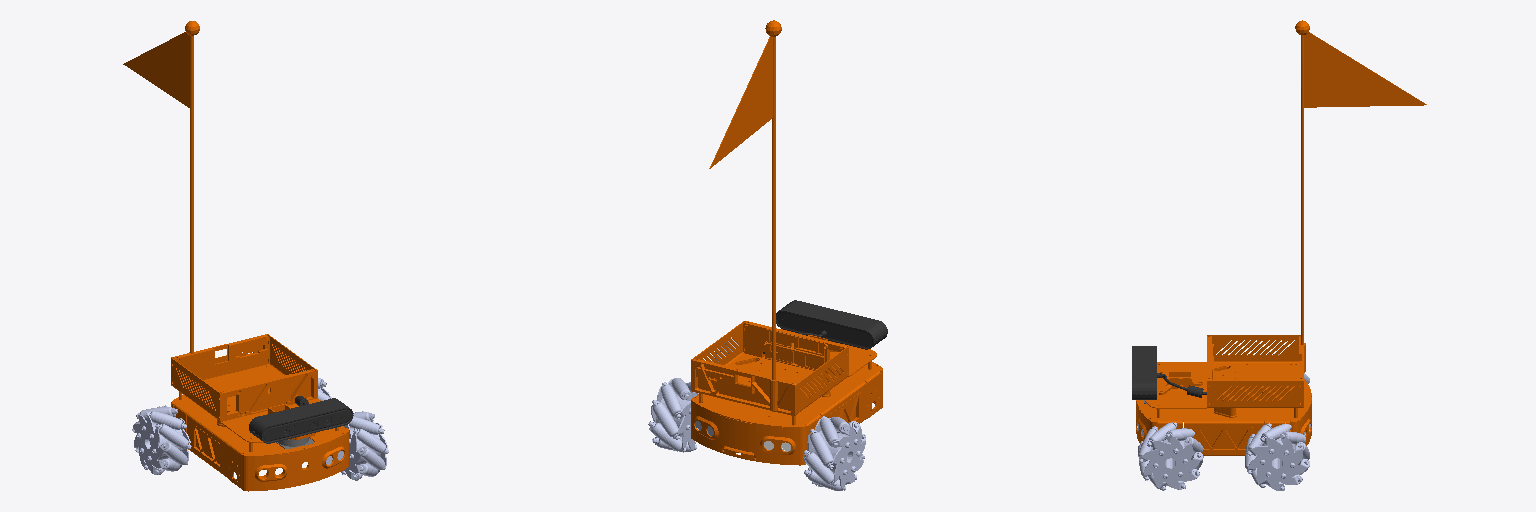
robot.urdf — mirte_master_description:
<?xml version="1.0" encoding="utf-8"?>
<!-- This URDF was automatically created by SolidWorks to URDF Exporter! Originally created by
[author] ([email redacted]) 
     Commit Version: 1.6.0-4-g7f85cfe  Build Version: 1.6.7995.38578
     For more information, please see http://wiki.ros.org/sw_urdf_exporter -->
<robot
  name="mirte_master_description">
  <link
    name="base_link">
    <inertial>
      <origin
        xyz="-0.00127942588707535 0.0151241102447173 -0.00985810717289011"
        rpy="0 0 0" />
      <mass
        value="1.67774926625852" />
      <inertia
        ixx="0.00906343835306296"
        ixy="8.45553301983081E-07"
        ixz="-3.93751691212787E-06"
        iyy="0.0137382930141301"
        iyz="0.000240421022548359"
        izz="0.0076615986898399" />
    </inertial>
    <visual>
      <origin
        xyz="0 0 0"
        rpy="0 0 0" />
      <geometry>
        <mesh
          filename="package://mirte_master_simulator/meshes/base_link.STL" />
      </geometry>
      <material
        name="">
        <color
          rgba="0.909803921568627 0.443137254901961 0.0313725490196078 1" />
      </material>
    </visual>
    <collision>
      <origin
        xyz="0 0 0"
        rpy="0 0 0" />
      <geometry>
        <mesh
          filename="package://mirte_master_simulator/meshes/base_link.STL" />
      </geometry>
    </collision>
  </link>
  <link
    name="front_left_wheel_link">
    <inertial>
      <origin
        xyz="0.030103 0.034202 0.03996"
        rpy="0 0 0" />
      <mass
        value="0.26661" />
      <inertia
        ixx="8.0546E-05"
        ixy="2.8056E-15"
        ixz="1.0884E-14"
        iyy="8.0546E-05"
        iyz="1.1213E-14"
        izz="9.3196E-05" />
    </inertial>
    <visual>
      <origin
        xyz="0 0 0"
        rpy="0 0 0" />
      <geometry>
        <mesh
          filename="package://mirte_master_simulator/meshes/front_left_wheel_link.STL" />
      </geometry>
      <material
        name="">
        <color
          rgba="0.79216 0.81961 0.93333 1" />
      </material>
    </visual>
    <collision>
      <origin
        xyz="0 0 0"
        rpy="0 0 0" />
      <geometry>
        <mesh
          filename="package://mirte_master_simulator/meshes/front_left_wheel_link.STL" />
      </geometry>
    </collision>
  </link>
  <joint
    name="front_left_wheel_joint"
    type="fixed">
    <origin
      xyz="0.16802 -0.050672 -0.07546"
      rpy="1.5708 0.13151 -1.5708" />
    <parent
      link="base_link" />
    <child
      link="front_left_wheel_link" />
    <axis
      xyz="0 0 0" />
  </joint>
  <link
    name="front_right_wheel_link">
    <inertial>
      <origin
        xyz="0.030103 0.034202 0.03996"
        rpy="0 0 0" />
      <mass
        value="0.26661" />
      <inertia
        ixx="8.0546E-05"
        ixy="-5.0529E-15"
        ixz="7.75E-14"
        iyy="8.0546E-05"
        iyz="-1.4708E-15"
        izz="9.3196E-05" />
    </inertial>
    <visual>
      <origin
        xyz="0 0 0"
        rpy="0 0 0" />
      <geometry>
        <mesh
          filename="package://mirte_master_simulator/meshes/front_right_wheel_link.STL" />
      </geometry>
      <material
        name="">
        <color
          rgba="0.79216 0.81961 0.93333 1" />
      </material>
    </visual>
    <collision>
      <origin
        xyz="0 0 0"
        rpy="0 0 0" />
      <geometry>
        <mesh
          filename="package://mirte_master_simulator/meshes/front_right_wheel_link.STL" />
      </geometry>
    </collision>
  </link>
  <joint
    name="front_right_wheel_joint"
    type="fixed">
    <origin
      xyz="-0.087976 -0.060085 -0.083647"
      rpy="1.5708 -0.14316 -1.5708" />
    <parent
      link="base_link" />
    <child
      link="front_right_wheel_link" />
    <axis
      xyz="0 0 0" />
  </joint>
  <link
    name="rear_right_wheel_link">
    <inertial>
      <origin
        xyz="0.030103 0.034202 0.03996"
        rpy="0 0 0" />
      <mass
        value="0.26661" />
      <inertia
        ixx="8.0546E-05"
        ixy="1.1771E-15"
        ixz="9.8191E-15"
        iyy="8.0546E-05"
        iyz="1.9298E-14"
        izz="9.3196E-05" />
    </inertial>
    <visual>
      <origin
        xyz="0 0 0"
        rpy="0 0 0" />
      <geometry>
        <mesh
          filename="package://mirte_master_simulator/meshes/rear_right_wheel_link.STL" />
      </geometry>
      <material
        name="">
        <color
          rgba="0.79216 0.81961 0.93333 1" />
      </material>
    </visual>
    <collision>
      <origin
        xyz="0 0 0"
        rpy="0 0 0" />
      <geometry>
        <mesh
          filename="package://mirte_master_simulator/meshes/rear_right_wheel_link.STL" />
      </geometry>
    </collision>
  </link>
  <joint
    name="rear_right_wheel_joint"
    type="fixed">
    <origin
      xyz="-0.087976 0.11997 -0.074702"
      rpy="1.5708 0.15337 -1.5708" />
    <parent
      link="base_link" />
    <child
      link="rear_right_wheel_link" />
    <axis
      xyz="0 0 0" />
  </joint>
  <link
    name="rear_left_wheel_link">
    <inertial>
      <origin
        xyz="0.0301029400755673 0.034202366229229 0.039960226040592"
        rpy="0 0 0" />
      <mass
        value="0.266614983226052" />
      <inertia
        ixx="8.05457942742895E-05"
        ixy="-5.04132749678783E-15"
        ixz="7.74862268226729E-14"
        iyy="8.05457942724331E-05"
        iyz="-1.47689691197136E-15"
        izz="9.31956038947576E-05" />
    </inertial>
    <visual>
      <origin
        xyz="0 0 0"
        rpy="0 0 0" />
      <geometry>
        <mesh
          filename="package://mirte_master_simulator/meshes/rear_left_wheel_link.STL" />
      </geometry>
      <material
        name="">
        <color
          rgba="0.792156862745098 0.819607843137255 0.933333333333333 1" />
      </material>
    </visual>
    <collision>
      <origin
        xyz="0 0 0"
        rpy="0 0 0" />
      <geometry>
        <mesh
          filename="package://mirte_master_simulator/meshes/rear_left_wheel_link.STL" />
      </geometry>
    </collision>
  </link>
  <joint
    name="rear_left_wheel_joint"
    type="fixed">
    <origin
      xyz="0.16802 0.10992 -0.083647"
      rpy="1.5708 -0.14316 -1.5708" />
    <parent
      link="base_link" />
    <child
      link="rear_left_wheel_link" />
    <axis
      xyz="0 0 0" />
  </joint>
  <link
    name="camera_link">
    <inertial>
      <origin
        xyz="0.0013219 -0.00039201 -0.022261"
        rpy="0 0 0" />
      <mass
        value="0.18813" />
      <inertia
        ixx="6.9146E-05"
        ixy="2.5433E-06"
        ixz="1.9137E-05"
        iyy="0.00044907"
        iyz="-4.2726E-06"
        izz="0.0004083" />
    </inertial>
    <visual>
      <origin
        xyz="0 0 0"
        rpy="0 0 0" />
      <geometry>
        <mesh
          filename="package://mirte_master_simulator/meshes/camera_link.STL" />
      </geometry>
      <material
        name="">
        <color
          rgba="0.25098 0.25098 0.25098 1" />
      </material>
    </visual>
    <collision>
      <origin
        xyz="0 0 0"
        rpy="0 0 0" />
      <geometry>
        <mesh
          filename="package://mirte_master_simulator/meshes/camera_link.STL" />
      </geometry>
    </collision>
  </link>
  <joint
    name="camera_joint"
    type="fixed">
    <origin
      xyz="0 -0.14666 0.0427"
      rpy="1.5708 0 0" />
    <parent
      link="base_link" />
    <child
      link="camera_link" />
    <axis
      xyz="0 0 0" />
  </joint>
  <link
    name="lidar_link">
    <inertial>
      <origin
        xyz="-3.97749846947626E-10 -0.0183461608911809 -9.54386087724353E-05"
        rpy="0 0 0" />
      <mass
        value="0.100511981883415" />
      <inertia
        ixx="3.39518063996325E-05"
        ixy="-1.6211120950128E-12"
        ixz="-2.92284267119986E-13"
        iyy="4.1935853096105E-05"
        iyz="1.1815579647801E-07"
        izz="3.44778101670497E-05" />
    </inertial>
    <visual>
      <origin
        xyz="0 0 0"
        rpy="0 0 0" />
      <geometry>
        <mesh
          filename="package://mirte_master_simulator/meshes/lidar_link.STL" />
      </geometry>
      <material
        name="">
        <color
          rgba="0.501960784313725 0.501960784313725 0.501960784313725 1" />
      </material>
    </visual>
    <collision>
      <origin
        xyz="0 0 0"
        rpy="0 0 0" />
      <geometry>
        <mesh
          filename="package://mirte_master_simulator/meshes/lidar_link.STL" />
      </geometry>
    </collision>
  </link>
  <joint
    name="lidar_joint"
    type="fixed">
    <origin
      xyz="0 -0.1005 -0.023"
      rpy="-1.5708 0 -1.5708" />
    <parent
      link="base_link" />
    <child
      link="lidar_link" />
    <axis
      xyz="0 0 0" />
  </joint>
  <link
    name="fron_left_ultrasone_link">
    <inertial>
      <origin
        xyz="-4.3073E-05 0.0036756 -6.9914E-05"
        rpy="0 0 0" />
      <mass
        value="0.0038351" />
      <inertia
        ixx="1.5937E-07"
        ixy="-8.5425E-10"
        ixz="-3.4091E-09"
        iyy="7.6875E-07"
        iyz="2.6506E-09"
        izz="7.2622E-07" />
    </inertial>
    <visual>
      <origin
        xyz="0 0 0"
        rpy="0 0 0" />
      <geometry>
        <mesh
          filename="package://mirte_master_simulator/meshes/fron_left_ultrasone_link.STL" />
      </geometry>
      <material
        name="">
        <color
          rgba="0.79216 0.81961 0.93333 1" />
      </material>
    </visual>
    <collision>
      <origin
        xyz="0 0 0"
        rpy="0 0 0" />
      <geometry>
        <mesh
          filename="package://mirte_master_simulator/meshes/fron_left_ultrasone_link.STL" />
      </geometry>
    </collision>
  </link>
  <joint
    name="fron_left_ultrasone_joint"
    type="fixed">
    <origin
      xyz="0.052978 -0.12028 -0.031"
      rpy="3.1416 0 0.29671" />
    <parent
      link="base_link" />
    <child
      link="fron_left_ultrasone_link" />
    <axis
      xyz="0 0 0" />
  </joint>
  <link
    name="fron_right_ultrasone_link">
    <inertial>
      <origin
        xyz="-4.30733527063132E-05 0.00367564883489799 -6.9913657863175E-05"
        rpy="0 0 0" />
      <mass
        value="0.00383513951999245" />
      <inertia
        ixx="1.59365628586767E-07"
        ixy="-8.54250314742421E-10"
        ixz="-3.40905422018178E-09"
        iyy="7.6875152346034E-07"
        iyz="2.65062440645525E-09"
        izz="7.26221149125632E-07" />
    </inertial>
    <visual>
      <origin
        xyz="0 0 0"
        rpy="0 0 0" />
      <geometry>
        <mesh
          filename="package://mirte_master_simulator/meshes/fron_right_ultrasone_link.STL" />
      </geometry>
      <material
        name="">
        <color
          rgba="0.792156862745098 0.819607843137255 0.933333333333333 1" />
      </material>
    </visual>
    <collision>
      <origin
        xyz="0 0 0"
        rpy="0 0 0" />
      <geometry>
        <mesh
          filename="package://mirte_master_simulator/meshes/fron_right_ultrasone_link.STL" />
      </geometry>
    </collision>
  </link>
  <joint
    name="fron_right_ultrasone_joint"
    type="fixed">
    <origin
      xyz="-0.052978 -0.12028 -0.031"
      rpy="3.1416 0 -0.29671" />
    <parent
      link="base_link" />
    <child
      link="fron_right_ultrasone_link" />
    <axis
      xyz="0 0 0" />
  </joint>
  <link
    name="rear_left_ultrasone_link">
    <inertial>
      <origin
        xyz="-4.3073E-05 0.0036756 -6.9914E-05"
        rpy="0 0 0" />
      <mass
        value="0.0038351" />
      <inertia
        ixx="1.5937E-07"
        ixy="-8.5425E-10"
        ixz="-3.4091E-09"
        iyy="7.6875E-07"
        iyz="2.6506E-09"
        izz="7.2622E-07" />
    </inertial>
    <visual>
      <origin
        xyz="0 0 0"
        rpy="0 0 0" />
      <geometry>
        <mesh
          filename="package://mirte_master_simulator/meshes/rear_left_ultrasone_link.STL" />
      </geometry>
      <material
        name="">
        <color
          rgba="0.79216 0.81961 0.93333 1" />
      </material>
    </visual>
    <collision>
      <origin
        xyz="0 0 0"
        rpy="0 0 0" />
      <geometry>
        <mesh
          filename="package://mirte_master_simulator/meshes/rear_left_ultrasone_link.STL" />
      </geometry>
    </collision>
  </link>
  <joint
    name="rear_left_ultrasone_joint"
    type="fixed">
    <origin
      xyz="0.056561 0.11919 -0.031"
      rpy="3.1416 0 2.8449" />
    <parent
      link="base_link" />
    <child
      link="rear_left_ultrasone_link" />
    <axis
      xyz="0 0 0" />
  </joint>
  <link
    name="rear_right_ultrasone_link">
    <inertial>
      <origin
        xyz="0 0 0"
        rpy="0 0 0" />
      <mass
        value="0" />
      <inertia
        ixx="0"
        ixy="0"
        ixz="0"
        iyy="0"
        iyz="0"
        izz="0" />
    </inertial>
    <visual>
      <origin
        xyz="0 0 0"
        rpy="0 0 0" />
      <geometry>
        <mesh
          filename="package://mirte_master_simulator/meshes/rear_right_ultrasone_link.STL" />
      </geometry>
      <material
        name="">
        <color
          rgba="1 1 1 1" />
      </material>
    </visual>
    <collision>
      <origin
        xyz="0 0 0"
        rpy="0 0 0" />
      <geometry>
        <mesh
          filename="package://mirte_master_simulator/meshes/rear_right_ultrasone_link.STL" />
      </geometry>
    </collision>
  </link>
  <joint
    name="rear_right_ultrasone_joint"
    type="fixed">
    <origin
      xyz="-0.0565606470918482 0.119187021096338 -0.031"
      rpy="3.14159265358979 0 -2.84488668075076" />
    <parent
      link="base_link" />
    <child
      link="rear_right_ultrasone_link" />
    <axis
      xyz="0 0 0" />
  </joint>
</robot>

--- What the picture shows (computed from the rendered views, not written in the file) ---
3 views of the same robot in one strip: view 1: azimuth 30°, elevation 25°; view 2: azimuth 150°, elevation 25°; view 3: azimuth 270°, elevation 25° (orthographic).
Model mirte_master_description with 11 links and 10 joints (10 fixed), rooted at base_link, posed every joint at zero.
Visible links, largest first — view 1: base_link, rear_right_wheel_link, camera_link, front_left_wheel_link; view 2: base_link, rear_right_wheel_link, camera_link, rear_left_wheel_link; view 3: base_link, rear_left_wheel_link, front_left_wheel_link, camera_link.
Link boxes in pixels (left/top/right/bottom): base_link: left=123, top=21, right=348, bottom=491; rear_right_wheel_link: left=132, top=405, right=191, bottom=474; camera_link: left=249, top=396, right=353, bottom=443; front_left_wheel_link: left=341, top=411, right=388, bottom=480; base_link: left=691, top=20, right=882, bottom=465; rear_right_wheel_link: left=803, top=416, right=865, bottom=490; camera_link: left=763, top=300, right=887, bottom=353; rear_left_wheel_link: left=648, top=378, right=698, bottom=452; base_link: left=1136, top=20, right=1426, bottom=455; rear_left_wheel_link: left=1245, top=423, right=1309, bottom=490; front_left_wheel_link: left=1138, top=422, right=1203, bottom=490; camera_link: left=1132, top=346, right=1206, bottom=399.
Size in the robot's own frame: 0.314 by 0.4713 by 0.7358 metres.
9 mesh visuals loaded from 11 distinct referenced files (9 binary STL); not drawn: 2 (reference not matched to a file when rendering).